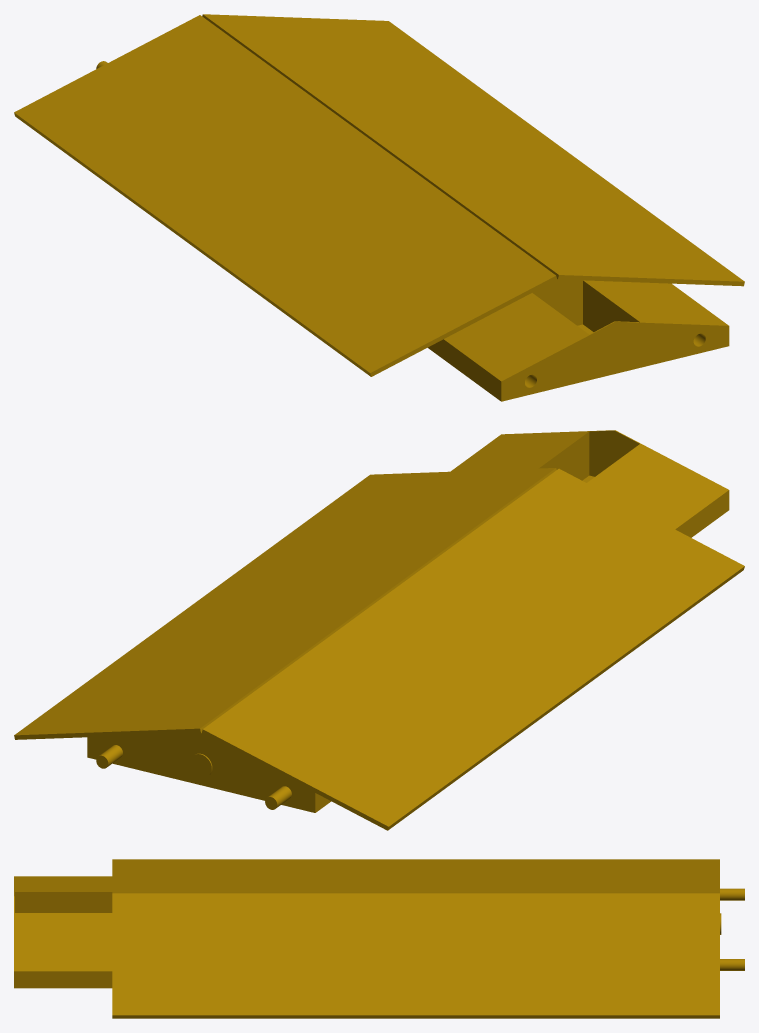
The model's file is BLOCK CAD FIELD - BLOCK CAD- BUMP, RED, AUDIENCE.gltf.
3 renders of one model, top to bottom at view 1: azimuth 30°, elevation 25°; view 2: azimuth 150°, elevation 25°; view 3: azimuth 270°, elevation 25°, orthographic. The views are drawn at different scales.
Visible parts, largest first — view 1: BLOCK CAD: BUMP, RED, AUDIENCE; view 2: BLOCK CAD: BUMP, RED, AUDIENCE; view 3: BLOCK CAD: BUMP, RED, AUDIENCE.
Boxes of the visible parts, x1,y1,x2,y2 form: BLOCK CAD: BUMP, RED, AUDIENCE: (14, 14, 744, 401); BLOCK CAD: BUMP, RED, AUDIENCE: (14, 430, 744, 830); BLOCK CAD: BUMP, RED, AUDIENCE: (14, 859, 744, 1018).
Size of the model in its own units: 1.13 by 0.1622 by 2.23.
